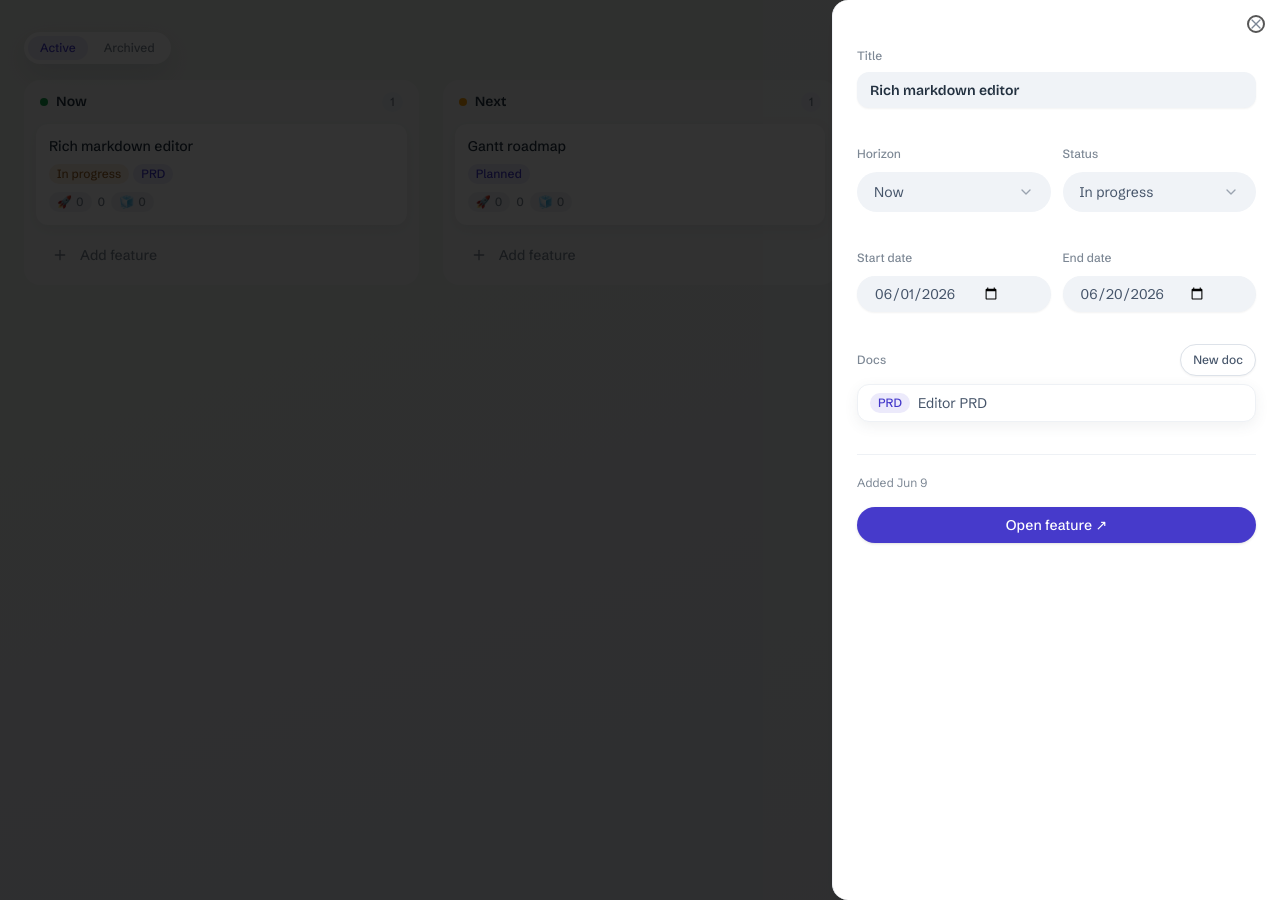
Test case: Board › inverted dates show an inline validation error
Expected: the field showing "Rich markdown editor" is shown, [857, 72, 1256, 108]
Step 1. Type "2026-05-01" into the date field labelled "End date" → (1159, 294), box [1062, 276, 1256, 312]
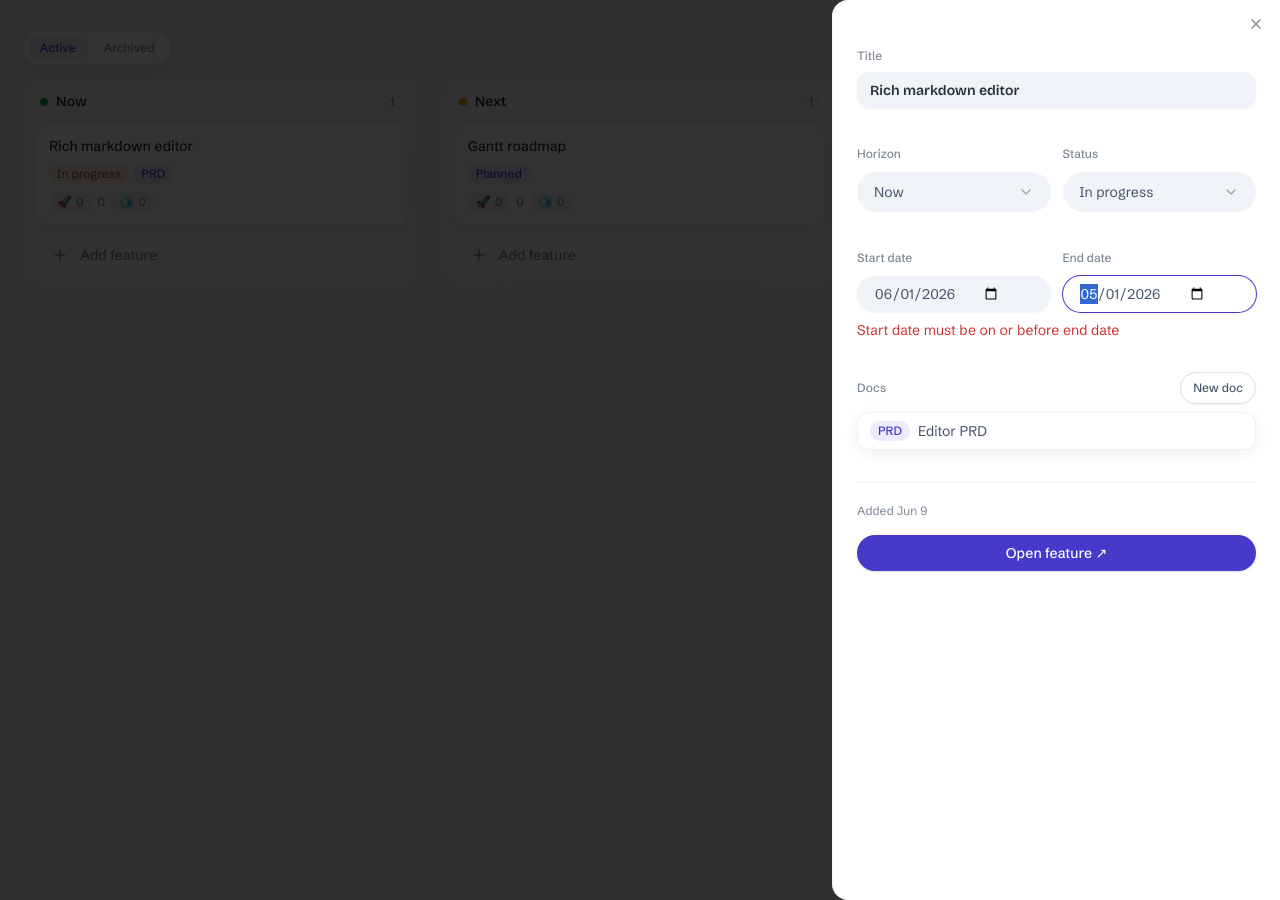
Expected: the date field labelled "Start date" holds "2026-06-01", [857, 276, 1050, 312]
Expected: the text "Start date must be on or before end date" is shown, [857, 321, 1119, 339]
